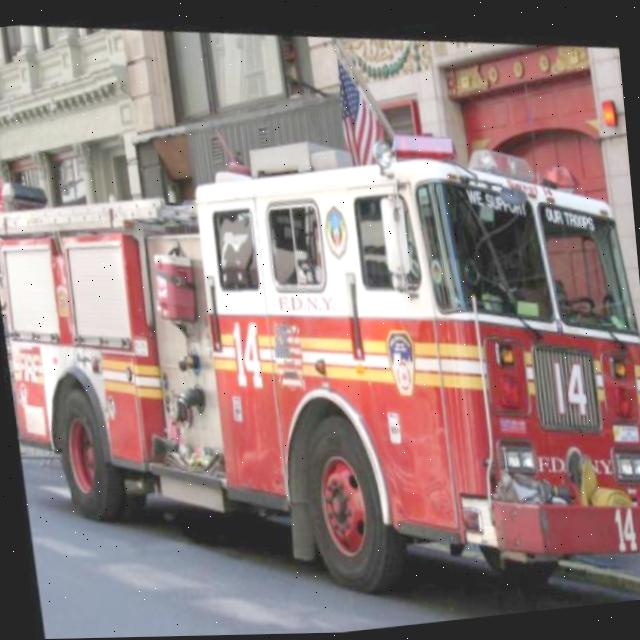emergency: (0, 105, 640, 640)
